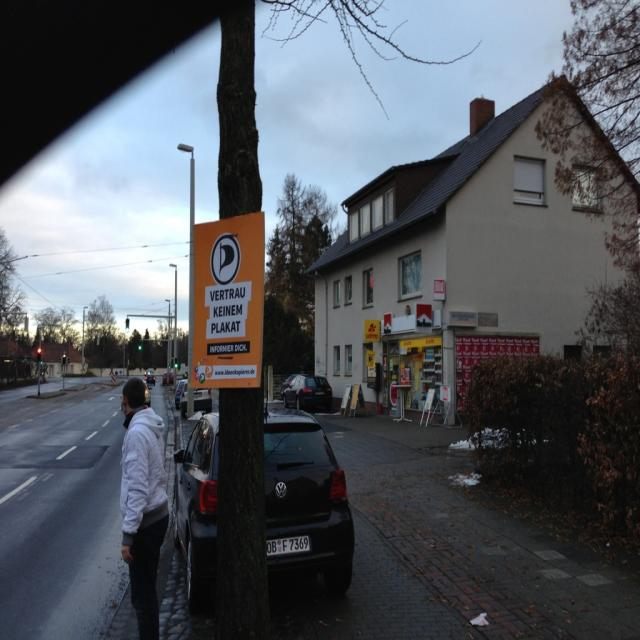car: (145, 368, 157, 385)
